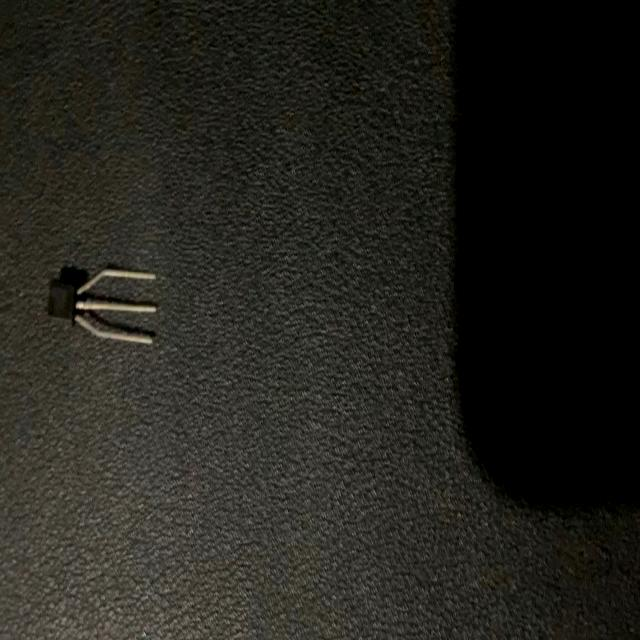BJT: (46, 264, 156, 352)
